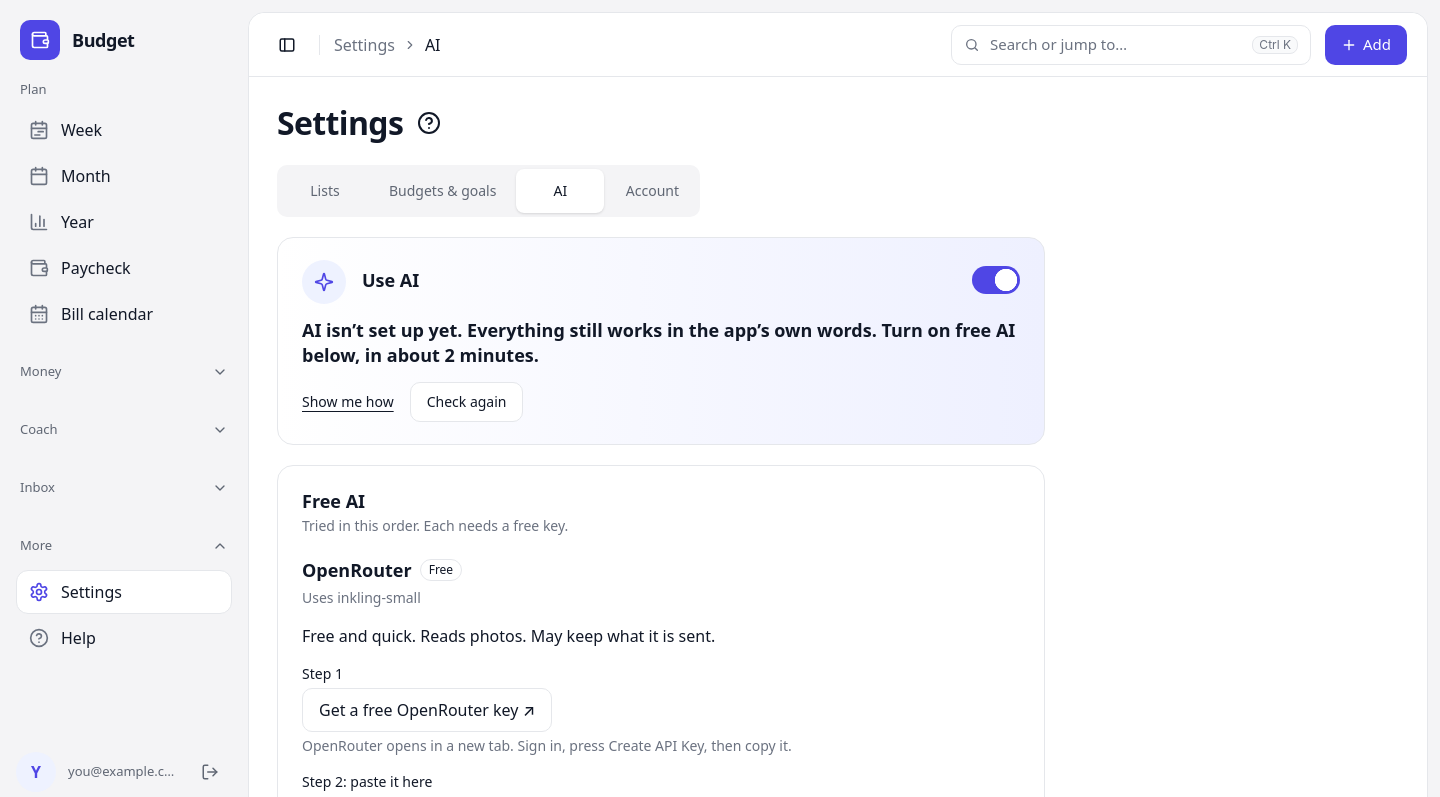
Test: Use AI › puts the switch back and says so when it could not be saved
Click the switch labelled "Use AI" at [996, 280], box [972,266,1020,294]
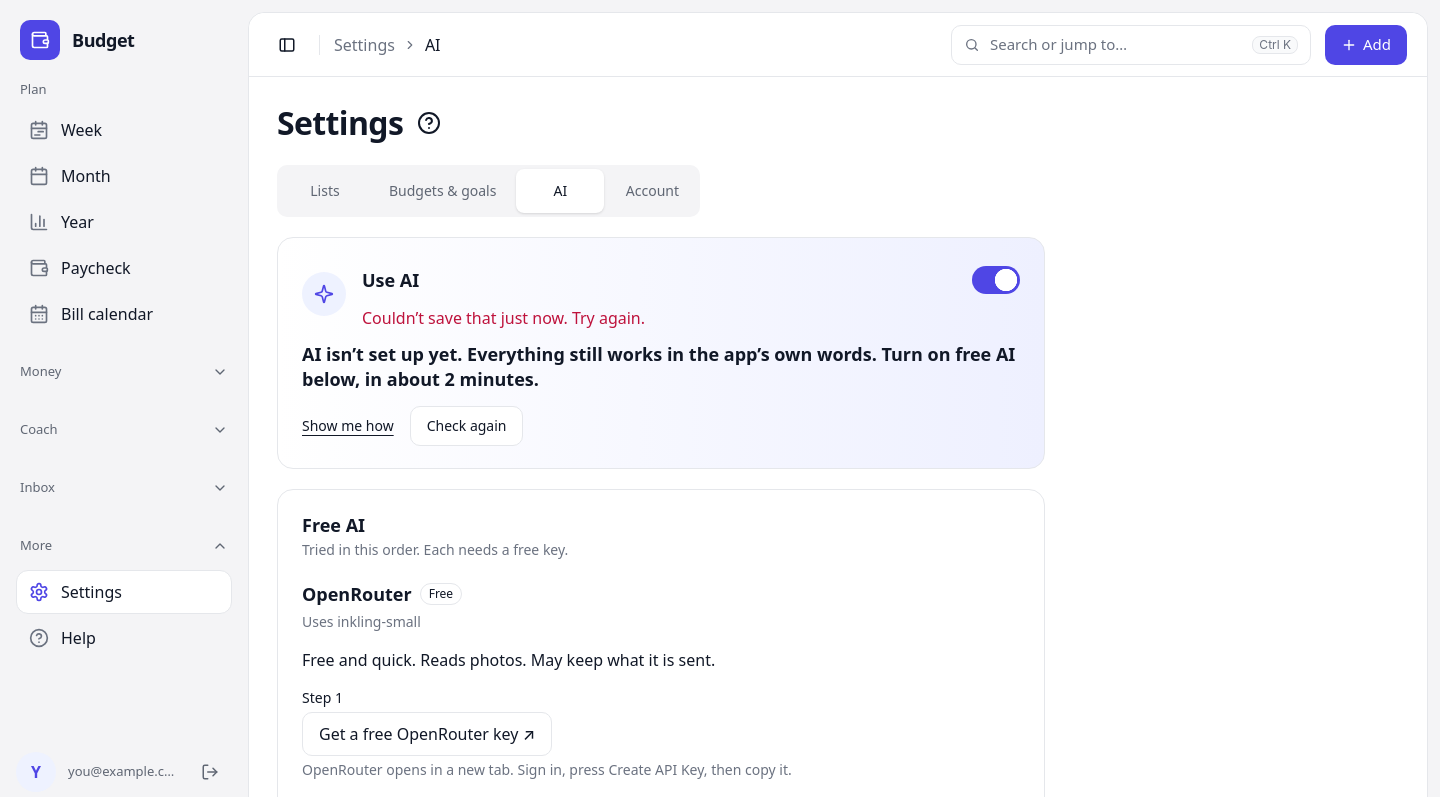
Now the text "Couldn’t save that just now. Try again." is shown, box [362,307,645,329]
